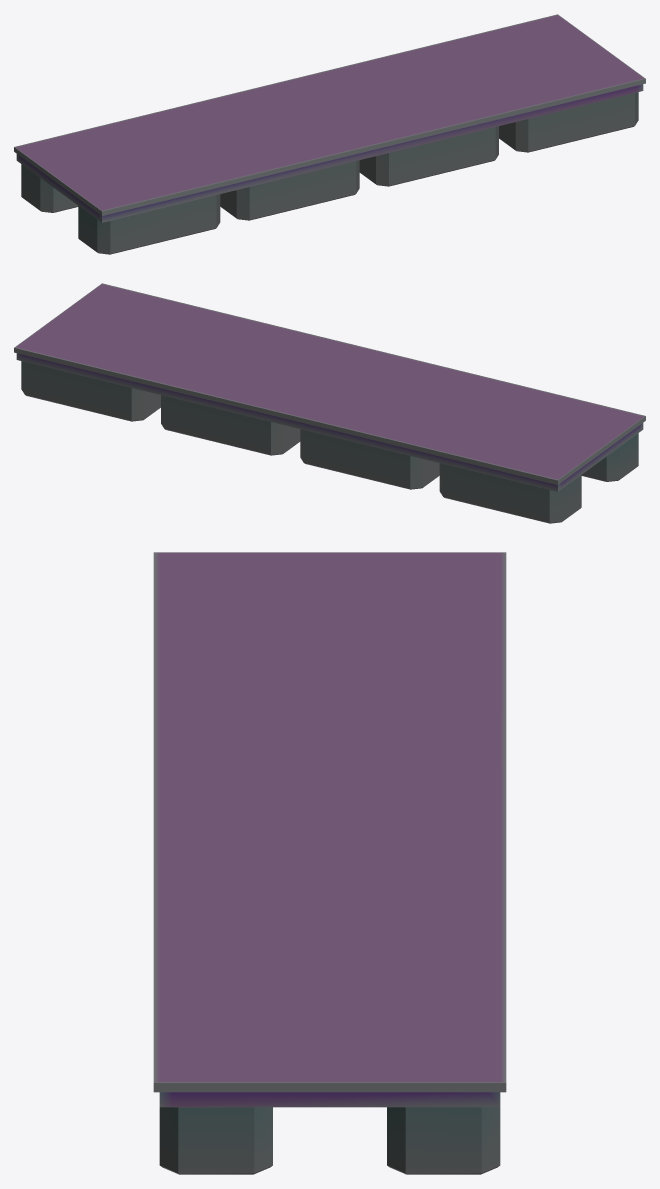
3 views of the same model, one above another, from view 1: azimuth 30°, elevation 25°; view 2: azimuth 150°, elevation 25°; view 3: azimuth 270°, elevation 25° (orthographic). The views are drawn at different scales.
Visible parts, largest first — view 1: top, block.003, block.001, block.007, block.005, block.002; view 2: top, block.002, block, block.006, block.004, block.003; view 3: top, block, block.001.
Part boxes in pixels (bbox=[...]): top: bbox=[14, 14, 645, 222]; block.003: bbox=[78, 194, 220, 254]; block.001: bbox=[499, 92, 638, 152]; block.007: bbox=[220, 160, 359, 220]; block.005: bbox=[359, 126, 498, 186]; block.002: bbox=[21, 164, 78, 212]; top: bbox=[14, 283, 645, 491]; block.002: bbox=[439, 463, 581, 523]; block: bbox=[21, 361, 160, 421]; block.006: bbox=[300, 429, 439, 489]; block.004: bbox=[161, 395, 300, 455]; block.003: bbox=[581, 433, 638, 481]; top: bbox=[153, 552, 506, 1107]; block: bbox=[387, 1107, 500, 1174]; block.001: bbox=[159, 1107, 272, 1174].
Bounding box in the file's own units: 20 × 1.66 × 5.62.
